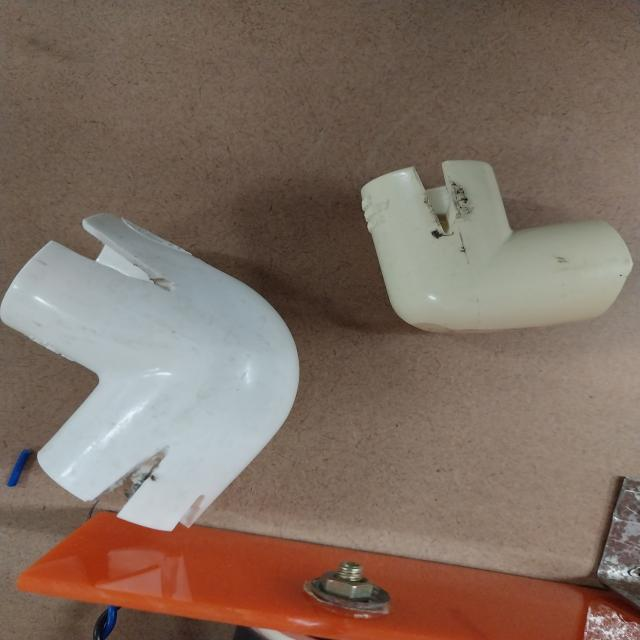Defective: (68, 217, 192, 304), (101, 446, 197, 536), (402, 164, 472, 243)
L Joint: (0, 214, 300, 535), (364, 159, 632, 334)
